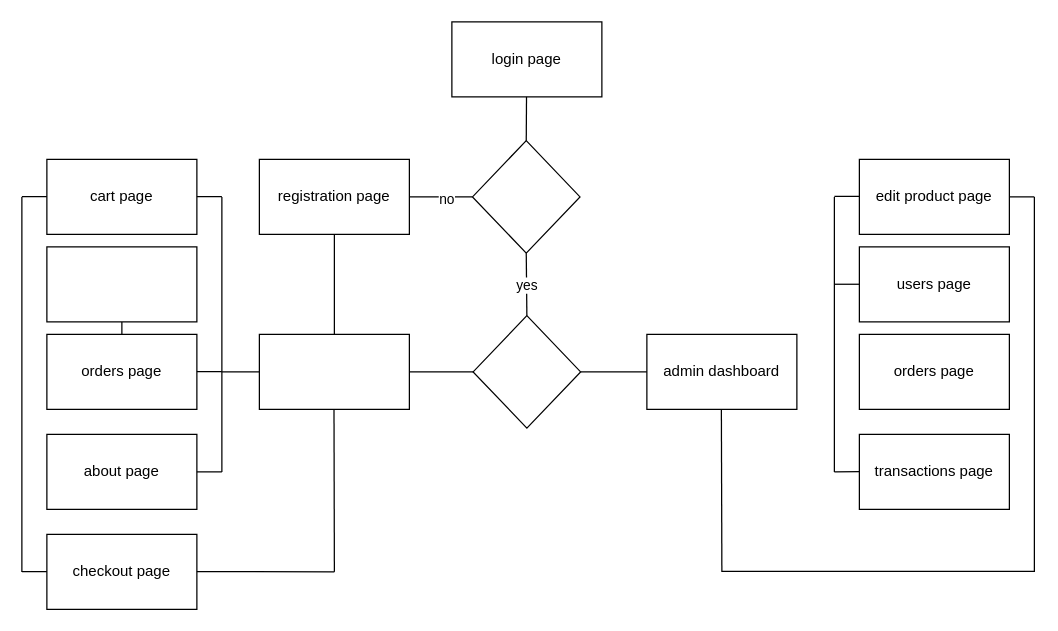
The diagram is 1058 pixels wide and 631 high, and some of its shapes have lost their labels. Each missing label, with the centre of its shape:
"has account?" belongs at point 525,196.
"order details page" belongs at point 121,284.
"user dashboard" belongs at point 333,371.
"user or admin?" belongs at point 526,371.
